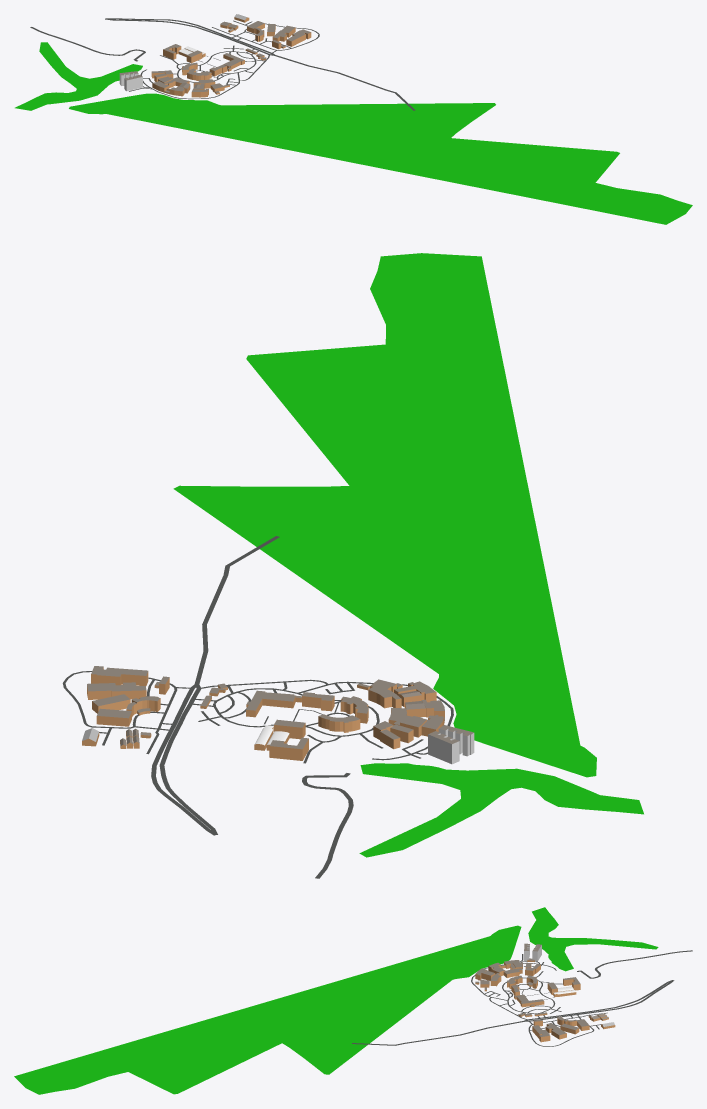
File: untitl.fbx
The picture shows the model from 3 angles, top to bottom: view 1: azimuth 30°, elevation 25°; view 2: azimuth 150°, elevation 25°; view 3: azimuth 270°, elevation 25°; orthographic projection. The views are drawn at different scales.
Visible parts, largest first — view 1: map_2.osm_vegetation, map_2.osm_buildings, map_2.osm_roads_residential, map_2.osm_roads_service; view 2: map_2.osm_vegetation, map_2.osm_buildings, map_2.osm_roads_residential, map_2.osm_roads_service; view 3: map_2.osm_vegetation, map_2.osm_buildings, map_2.osm_roads_residential, map_2.osm_roads_service.
Boxes of the visible parts, x1,y1,x2,y2 form: map_2.osm_vegetation: (15,42,692,224); map_2.osm_buildings: (119,14,311,97); map_2.osm_roads_residential: (30,18,415,110); map_2.osm_roads_service: (129,20,319,99); map_2.osm_vegetation: (173,253,643,857); map_2.osm_buildings: (82,666,474,764); map_2.osm_roads_residential: (151,536,353,878); map_2.osm_roads_service: (62,671,453,763); map_2.osm_vegetation: (14,907,658,1094); map_2.osm_buildings: (475,943,615,1042); map_2.osm_roads_residential: (352,950,692,1045); map_2.osm_roads_service: (471,954,607,1046).
Size of the model in its own units: 129102 by 3242 by 197335.
